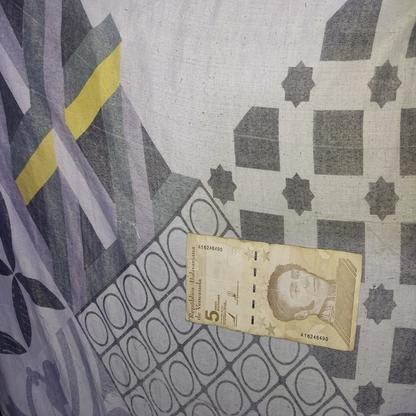five-front-vef: (184, 231, 362, 351)
